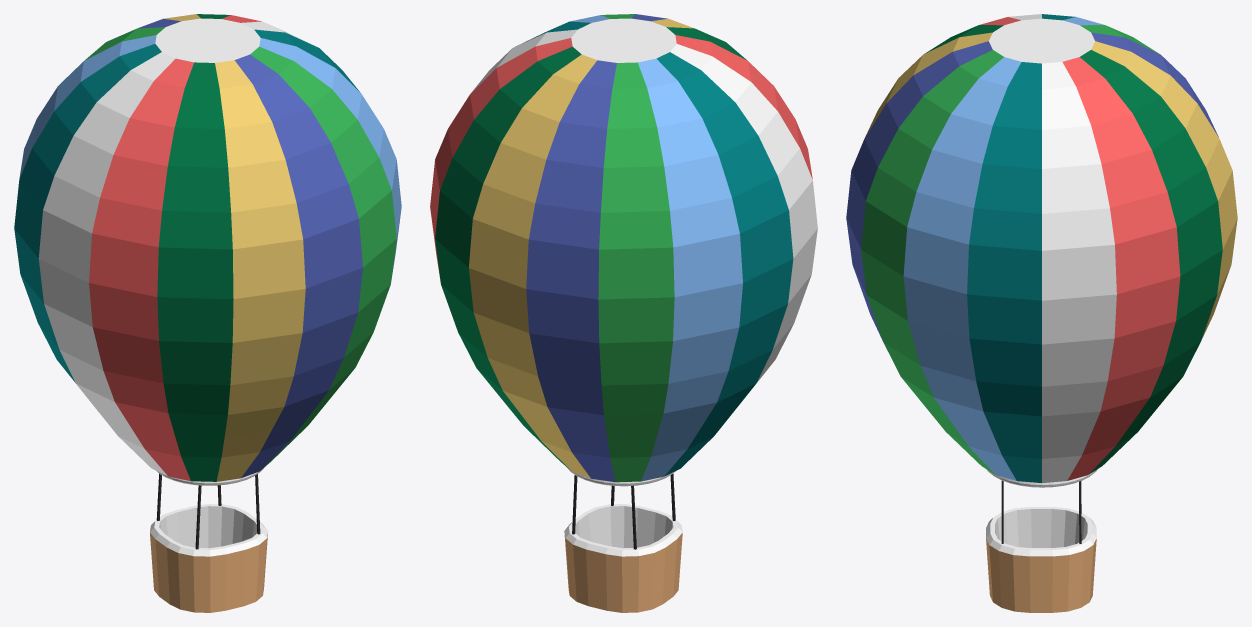
File: Ballon_1.fbx
3 renders of one model, left to right at view 1: azimuth 30°, elevation 25°; view 2: azimuth 150°, elevation 25°; view 3: azimuth 270°, elevation 25°, orthographic.
Visible parts, largest first — view 1: Ballon_1; view 2: Ballon_1; view 3: Ballon_1.
Part boxes in pixels (<box>): Ballon_1: <box>14,14,401,612</box>; Ballon_1: <box>430,14,817,612</box>; Ballon_1: <box>846,14,1237,612</box>.
Size of the model in its own units: 3.76 by 5.83 by 3.76.
